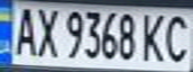3: (81, 8, 103, 60)
6: (100, 9, 121, 61)
8: (115, 10, 142, 62)
9: (60, 7, 84, 60)
A: (6, 3, 39, 57)
C: (160, 11, 193, 64)
K: (136, 10, 169, 63)
X: (33, 4, 60, 58)
